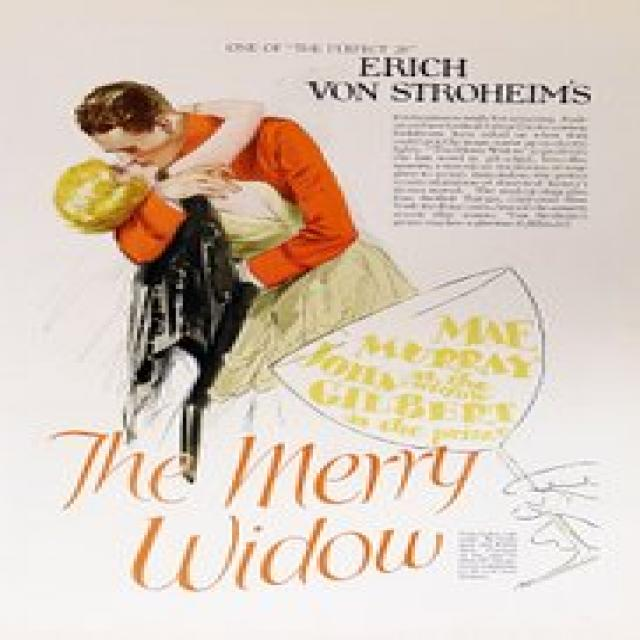movie-judul: (26, 414, 496, 602)
picture: (11, 11, 632, 623)
